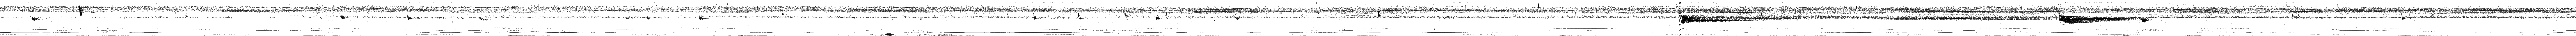meteor: (2058, 15, 2131, 23), (1679, 16, 1753, 23), (2137, 16, 2150, 23), (340, 15, 350, 20), (478, 16, 488, 21), (31, 16, 39, 21), (698, 16, 710, 20), (1155, 16, 1163, 20), (407, 15, 412, 20), (1033, 15, 1038, 20), (2402, 16, 2407, 21)
